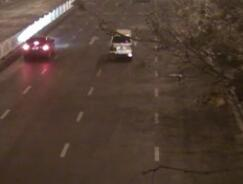car: (106, 25, 135, 61), (19, 34, 56, 59)
